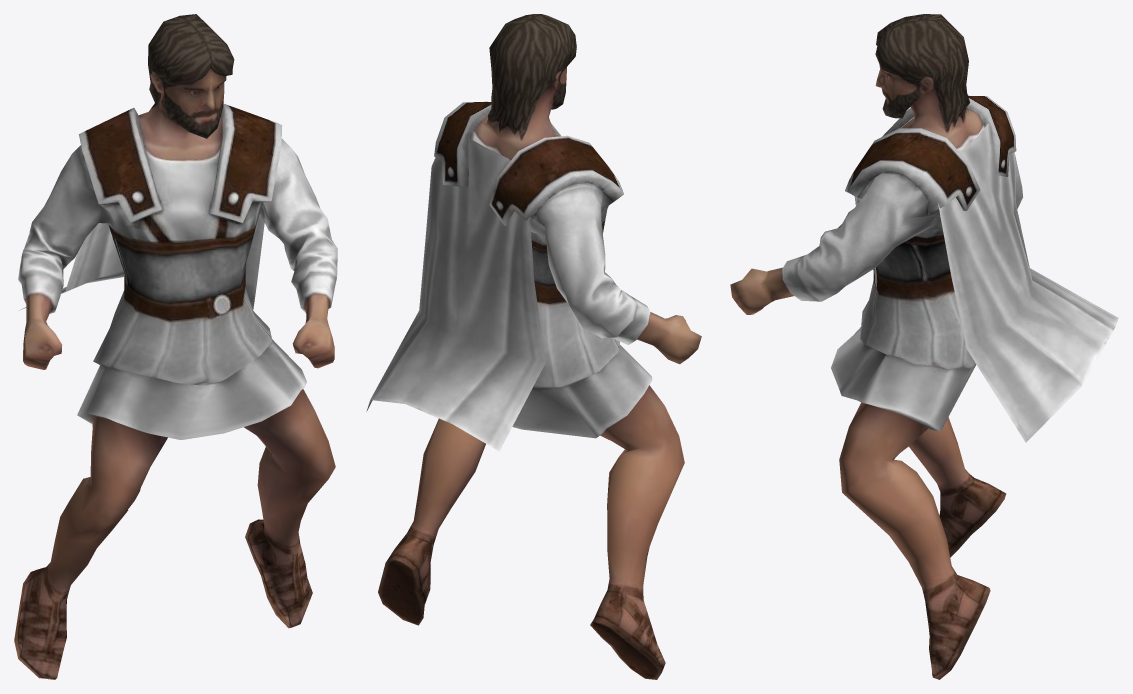
File: rider-slice-base.glb
3 renders of one model, left to right at view 1: azimuth 30°, elevation 25°; view 2: azimuth 150°, elevation 25°; view 3: azimuth 270°, elevation 25°, orthographic. The views are drawn at different scales.
Size of the model in its own units: 1.03 by 2.07 by 1.2.
Materials: 1 (1 with a texture image).
